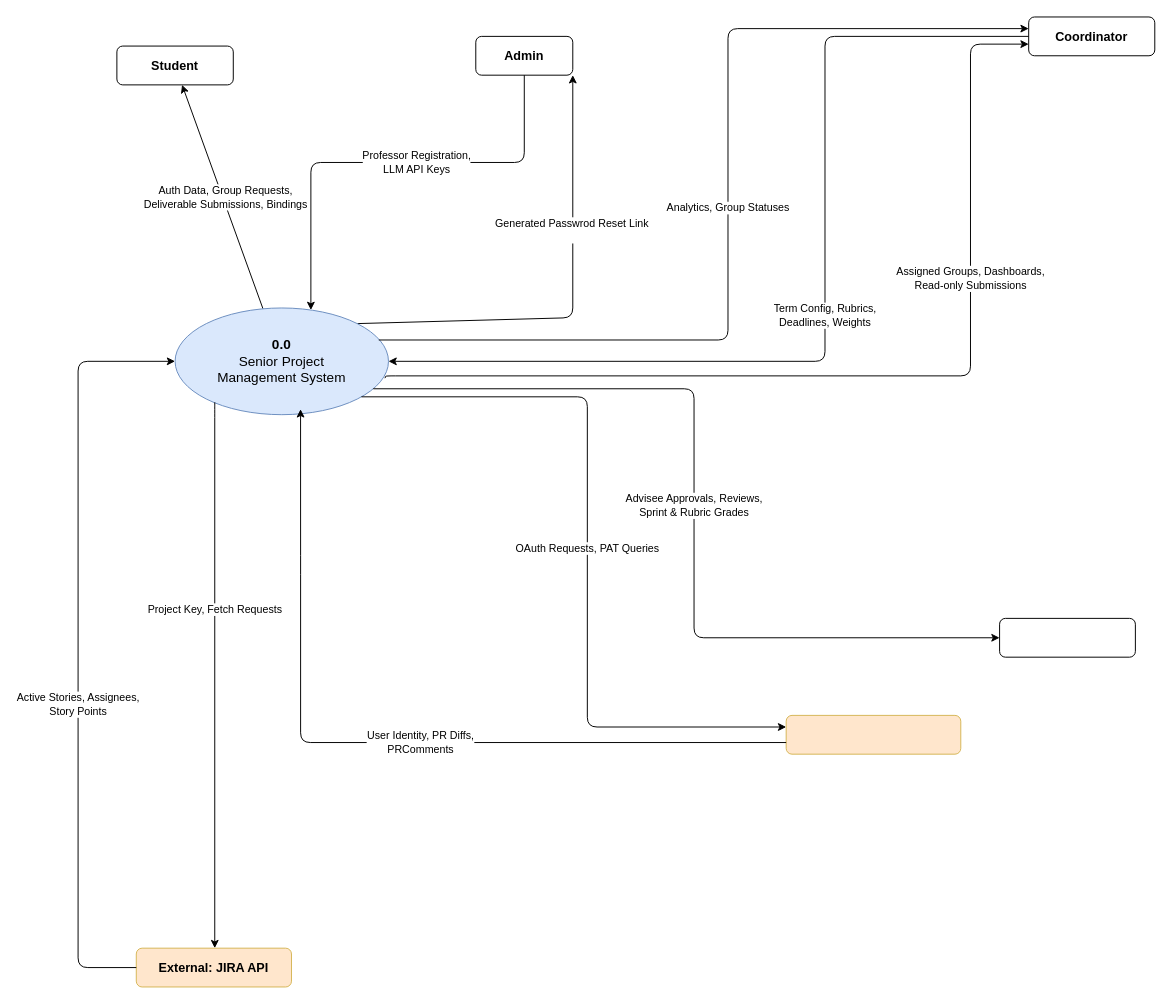
This 1172x1004 diagram has some shape labels left out. Here are the shapes that lost their labels. From the top down, the centre of each, then its label:
At (x=1067, y=637): "Advisor / Jury".
At (x=873, y=734): "External: GitHub API".
